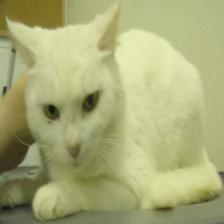cat: (5, 5, 119, 171)
